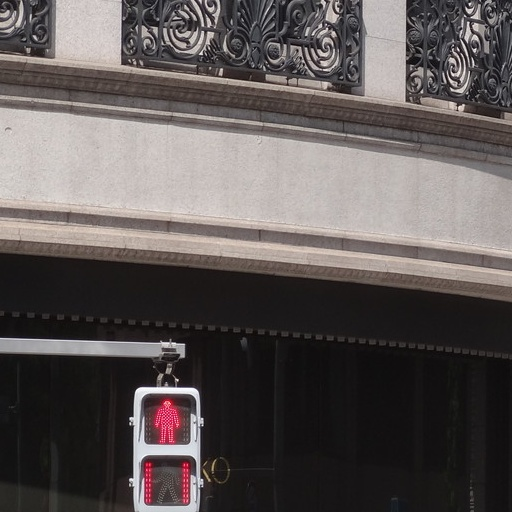Pedestrian_Signal_Red: (127, 383, 207, 511)
